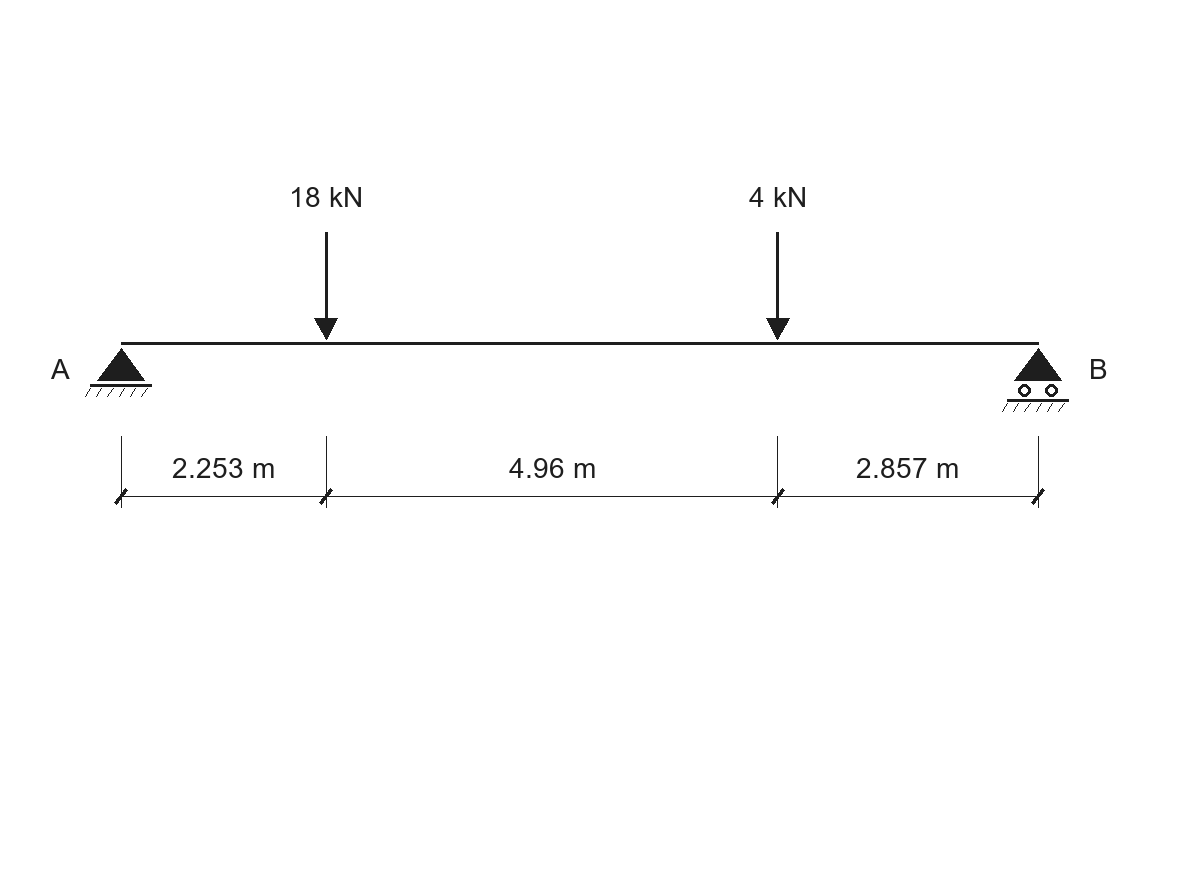pin_support: (85, 348, 152, 397)
point_load: (314, 232, 338, 340), (766, 232, 790, 340)
roller_support: (1002, 348, 1069, 412)
